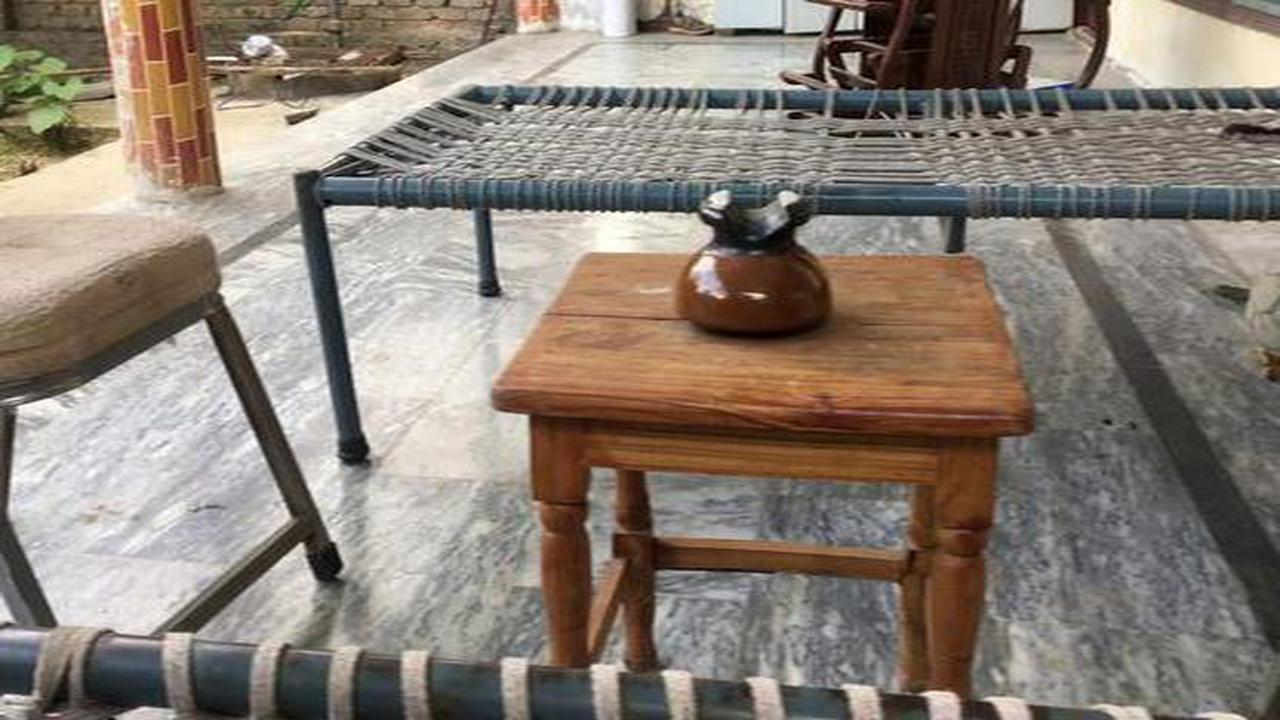insulator_pin: (653, 163, 865, 341)
